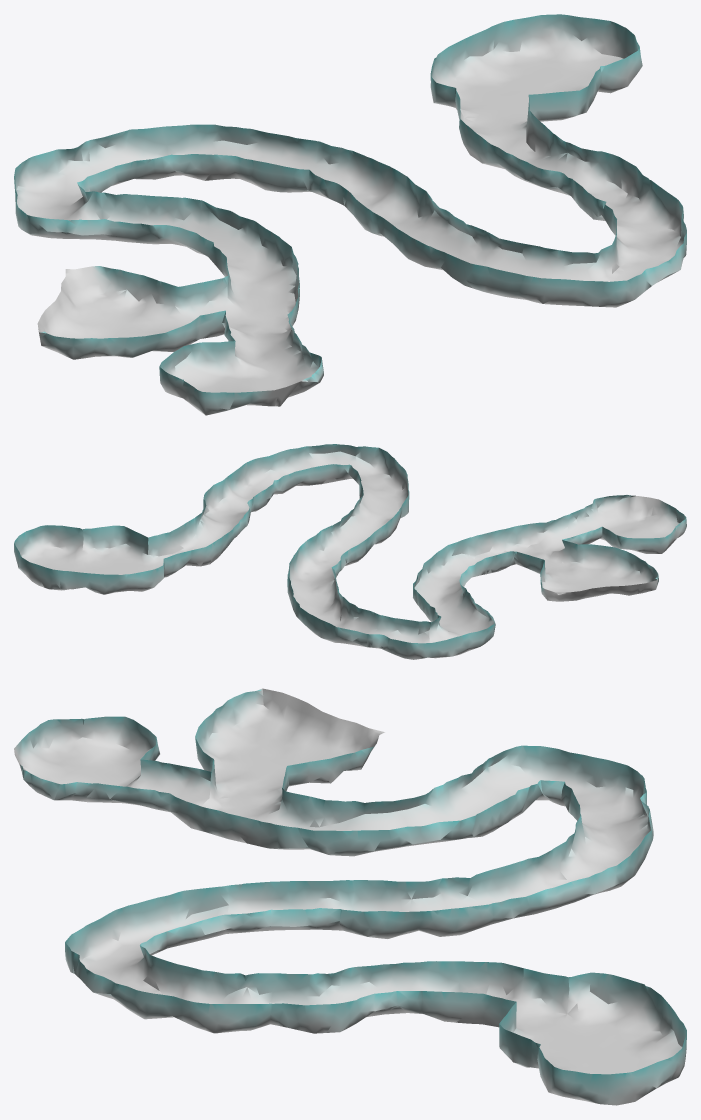
The model's file is NewNavimesh.fbx.
3 views of the same model, one above another, from view 1: azimuth 30°, elevation 25°; view 2: azimuth 150°, elevation 25°; view 3: azimuth 270°, elevation 25° (orthographic). The views are drawn at different scales.
Visible parts, largest first — view 1: transform9; view 2: transform9; view 3: transform9.
Part boxes in pixels (x1,y1,x2,y2): transform9: (14, 14, 686, 415); transform9: (14, 444, 686, 659); transform9: (14, 688, 686, 1105).
Bounding box in the file's own units: 8134 × 359 × 5995.
